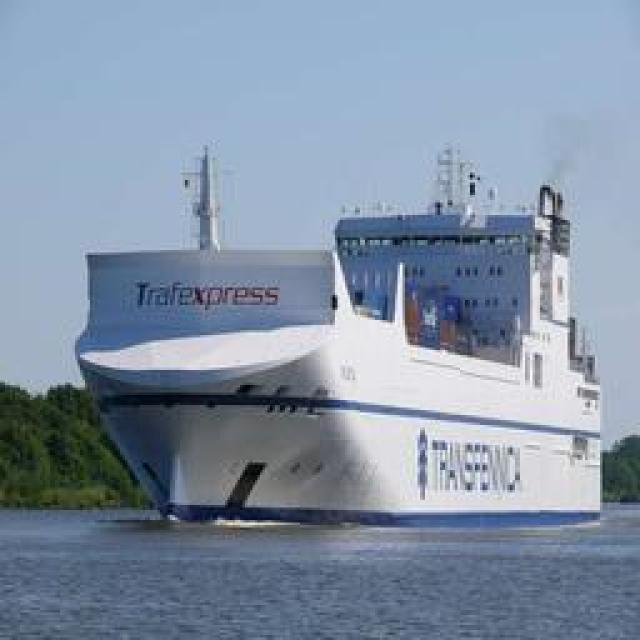CIV_Ship: (74, 168, 612, 522)
